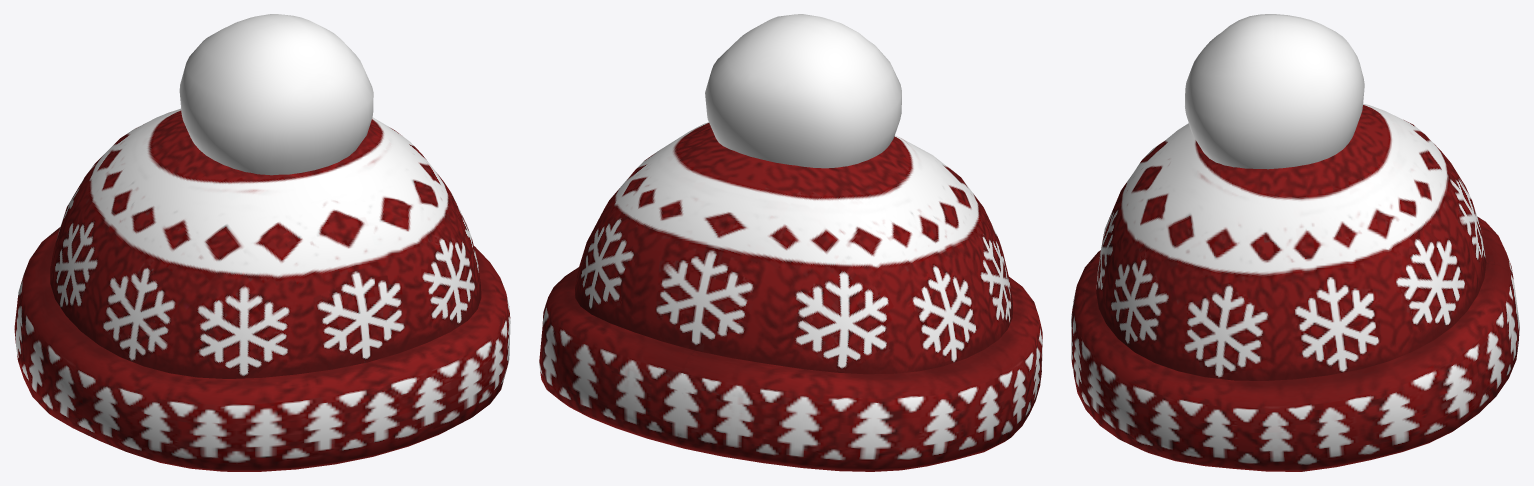
File: doodad_winter_hat.fbx
3 views of the same model, side by side, from view 1: azimuth 30°, elevation 25°; view 2: azimuth 150°, elevation 25°; view 3: azimuth 270°, elevation 25° (orthographic). The views are drawn at different scales.
Parts seen in each view (by area): view 1: doodad_winter_hat; view 2: doodad_winter_hat; view 3: doodad_winter_hat.
Boxes of the visible parts, left/top/right/bottom form: doodad_winter_hat: left=14, top=14, right=510, bottom=471; doodad_winter_hat: left=539, top=14, right=1042, bottom=471; doodad_winter_hat: left=1071, top=14, right=1519, bottom=471.
Bounding box in the file's own units: 0.4063 × 0.3313 × 0.3742.
